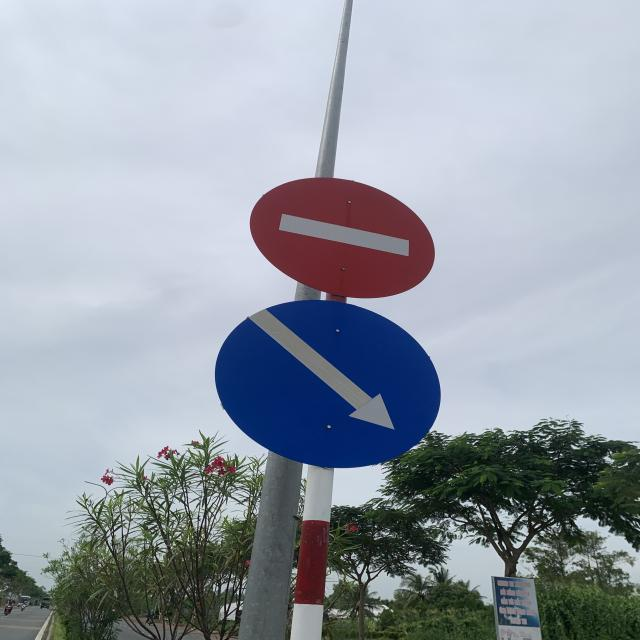Cam_Di_Nguoc_Chieu: (250, 174, 436, 299)
Chi_Huong_Di_Phai: (217, 297, 437, 466)
